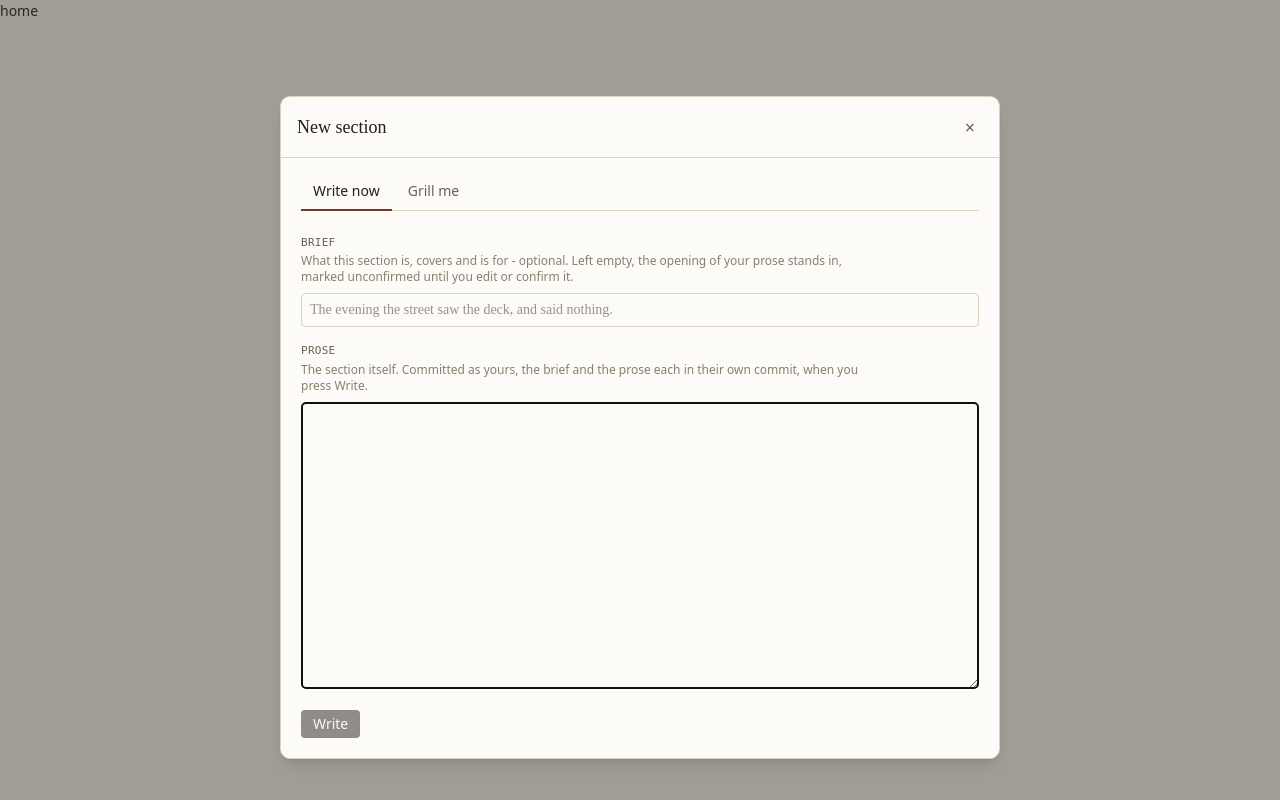
Test case: Write now › keeps the author's text on screen when the write fails
(page scrolled)
Type "Kept." into the text box named "Prose". click: point(640, 545)
box: [301,402,979,688]
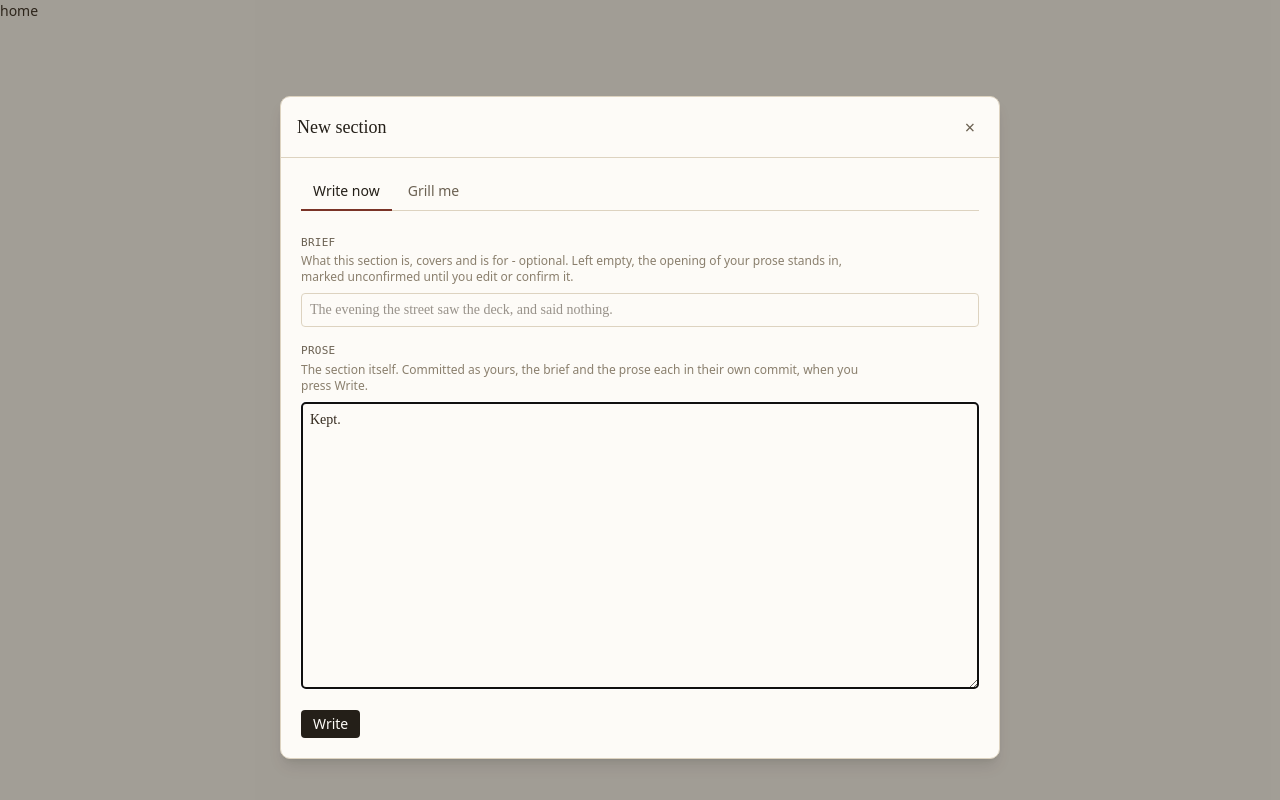
Click the button "Write". click: point(331, 724)
box: [301,710,360,738]
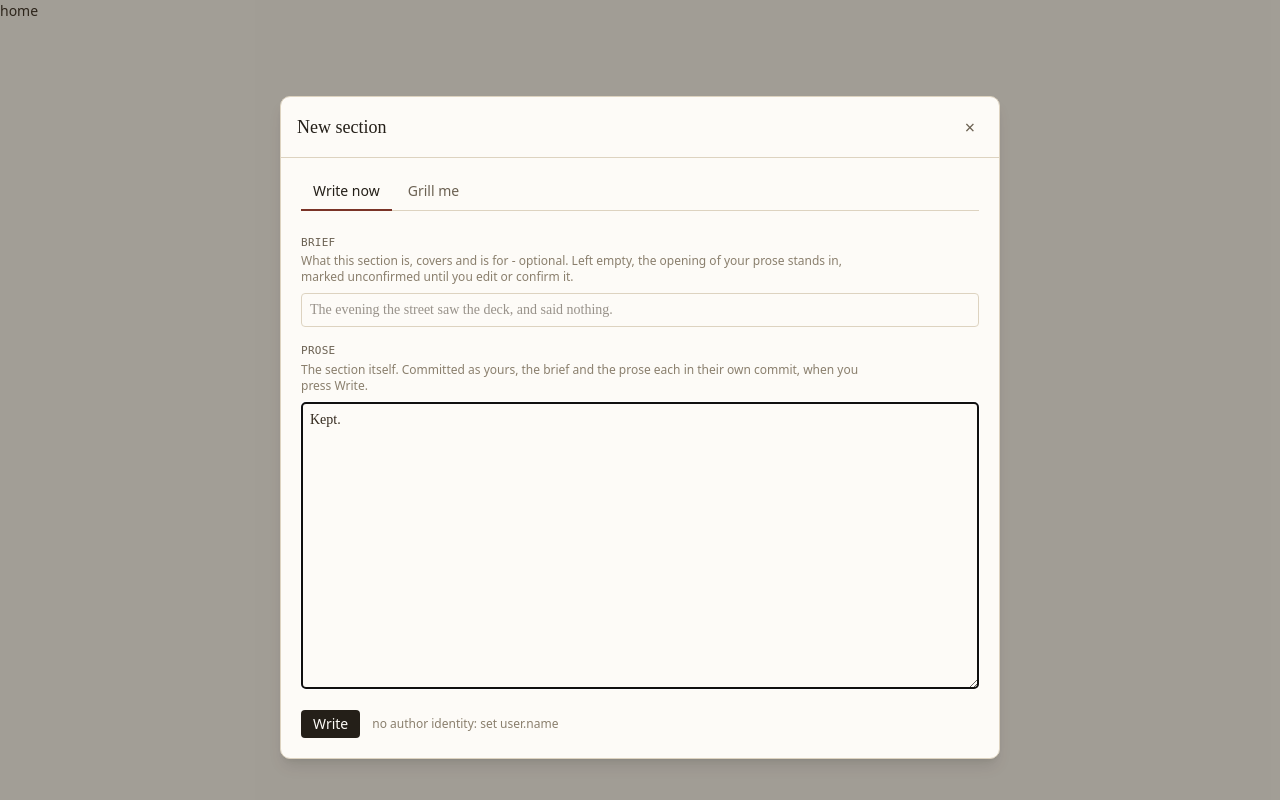
Result: the text "no author identity: set user.name" is shown at [372,716,558,732]
